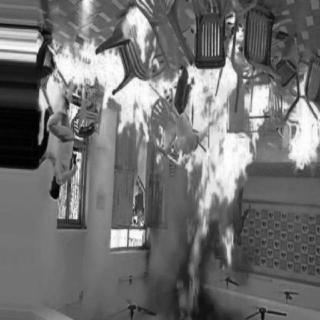Fire: (173, 47, 265, 289), (34, 18, 168, 148), (276, 90, 319, 192)
